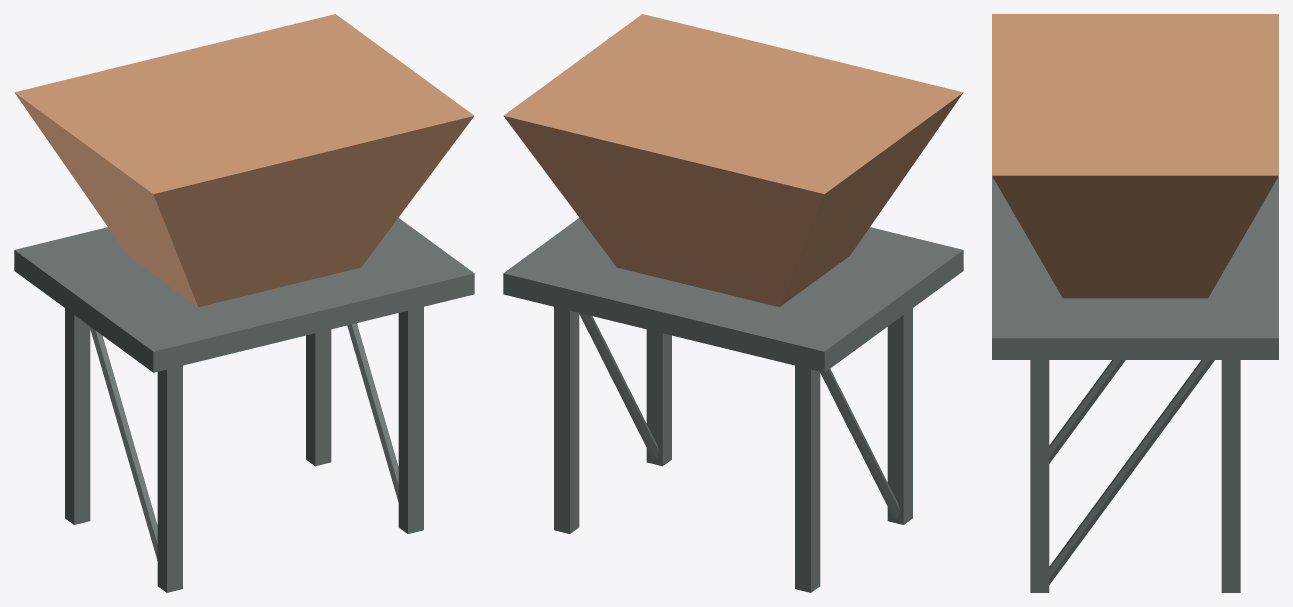
3 views of the same model, side by side, from view 1: azimuth 30°, elevation 25°; view 2: azimuth 150°, elevation 25°; view 3: azimuth 270°, elevation 25° (orthographic). The views are drawn at different scales.
Bounding box in the file's own units: 8 × 10.06 × 6.
